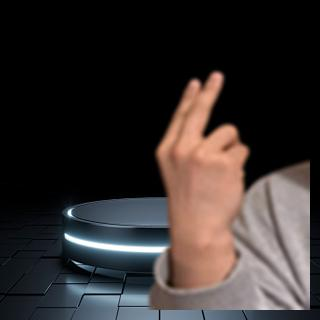DHAVE: (151, 69, 256, 242)
